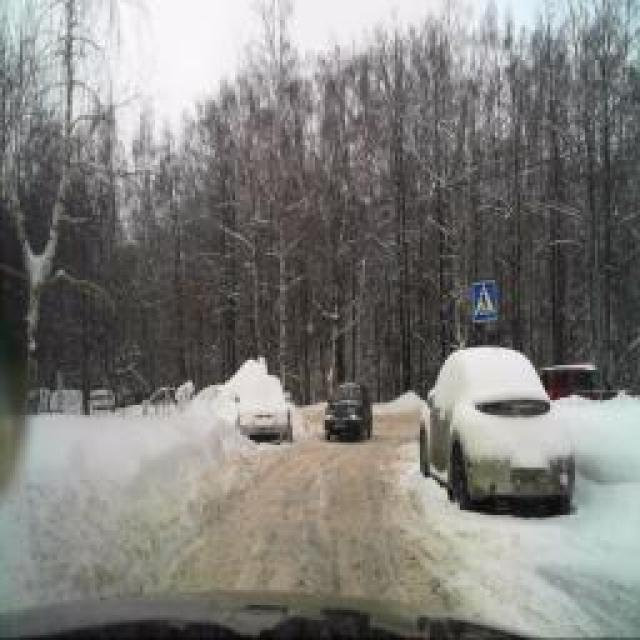sign: (470, 278, 498, 324), (211, 344, 219, 368)
